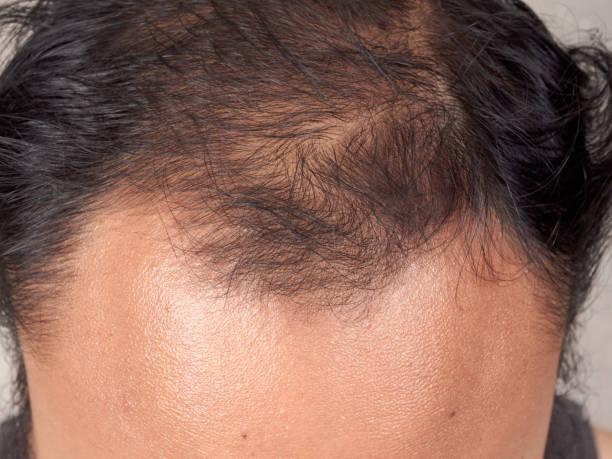low hair density: (202, 88, 371, 200), (282, 209, 403, 293), (363, 17, 445, 63), (405, 73, 465, 125), (151, 15, 203, 56)
